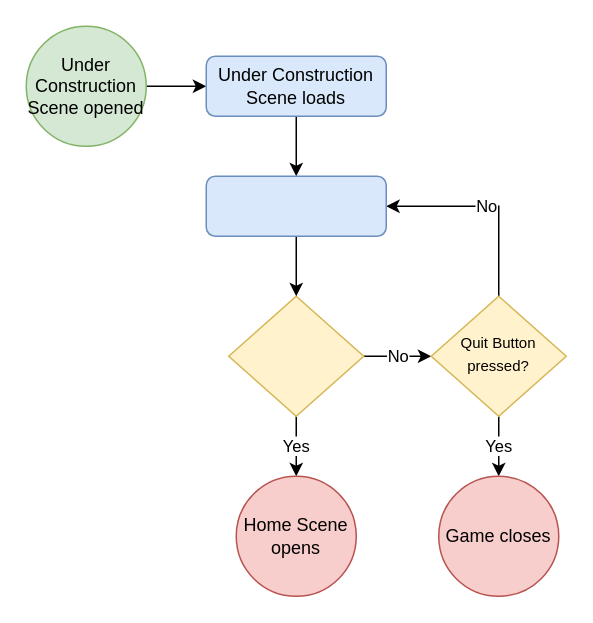
The diagram is 593 pixels wide and 623 high, and some of its shapes have lost their labels. Each missing label, with the centre of its shape:
"Home Button pressed?" goes at [295,355].
"Wait for player input" goes at [295,205].
